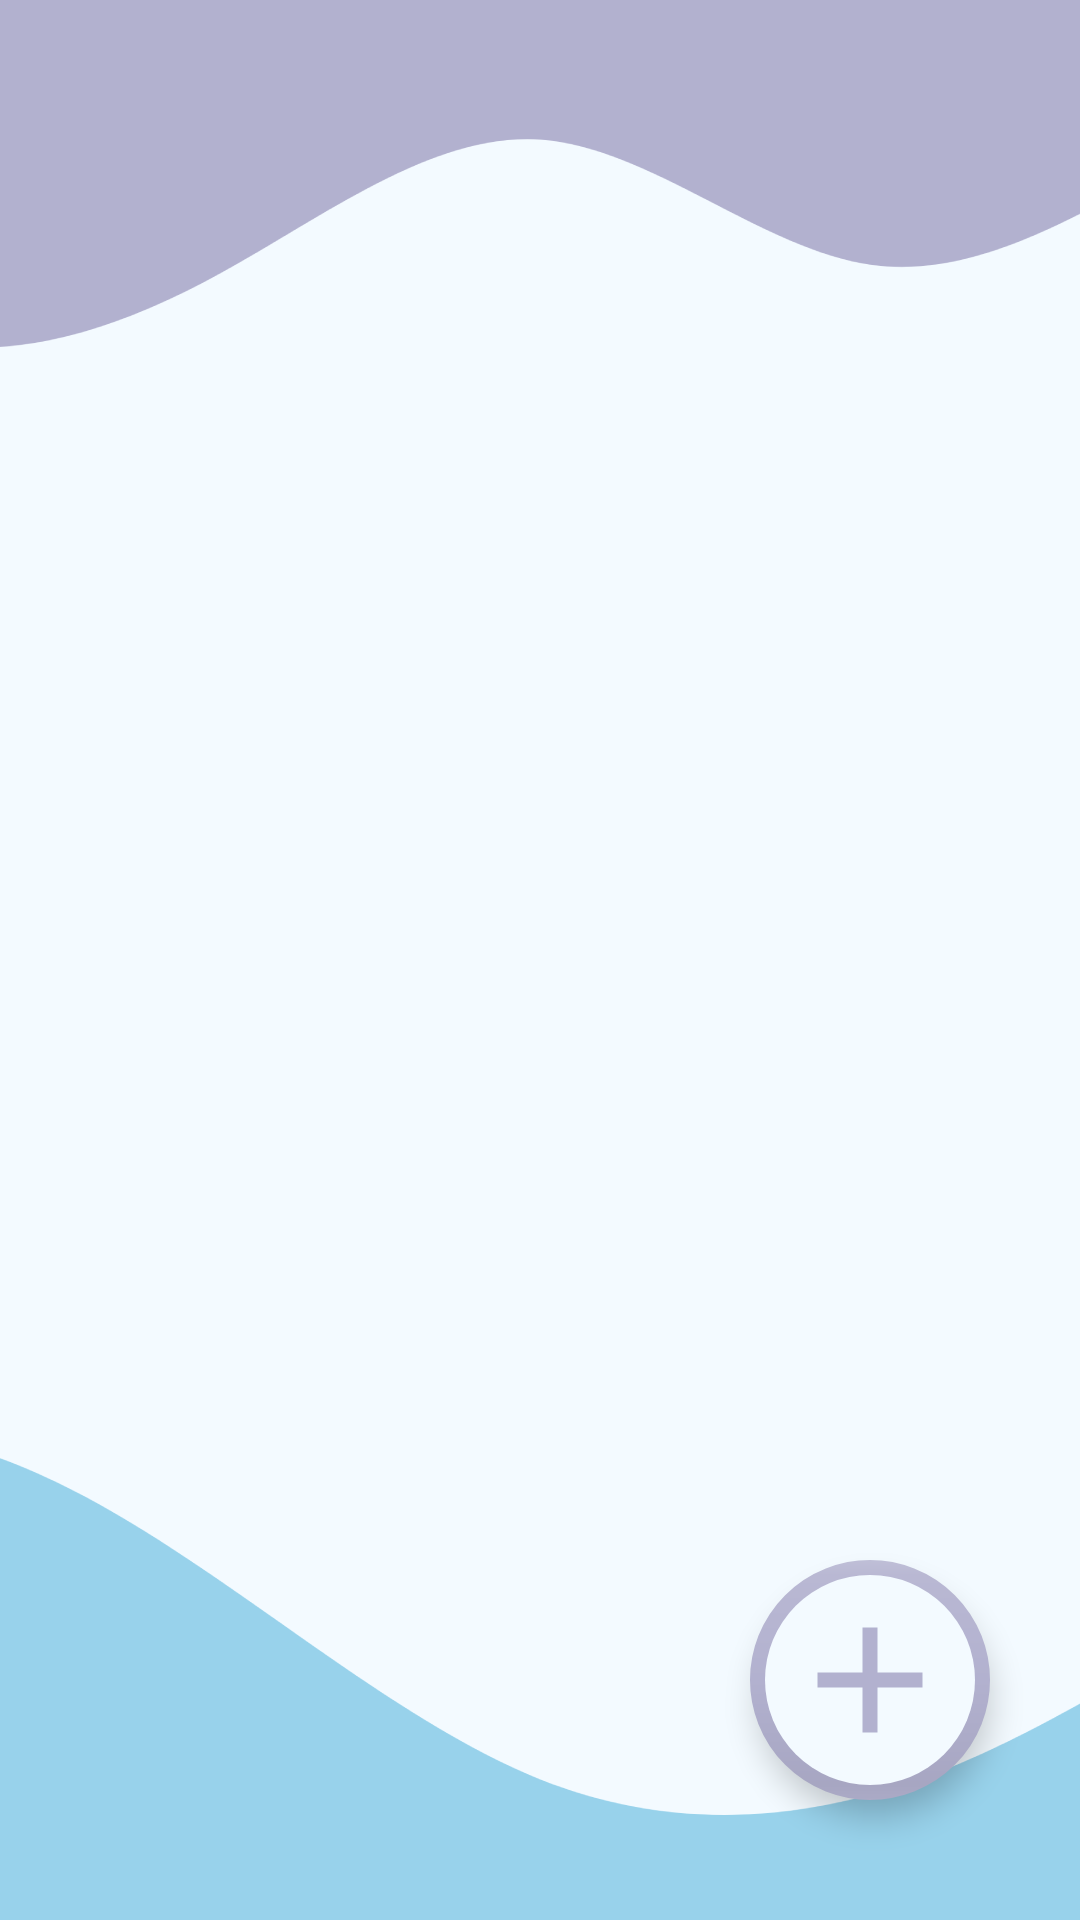

Point at icon controls on the screen. Image size 1080px x 1920px, points as (x=x, y=y).
add: (x=870, y=1680)
